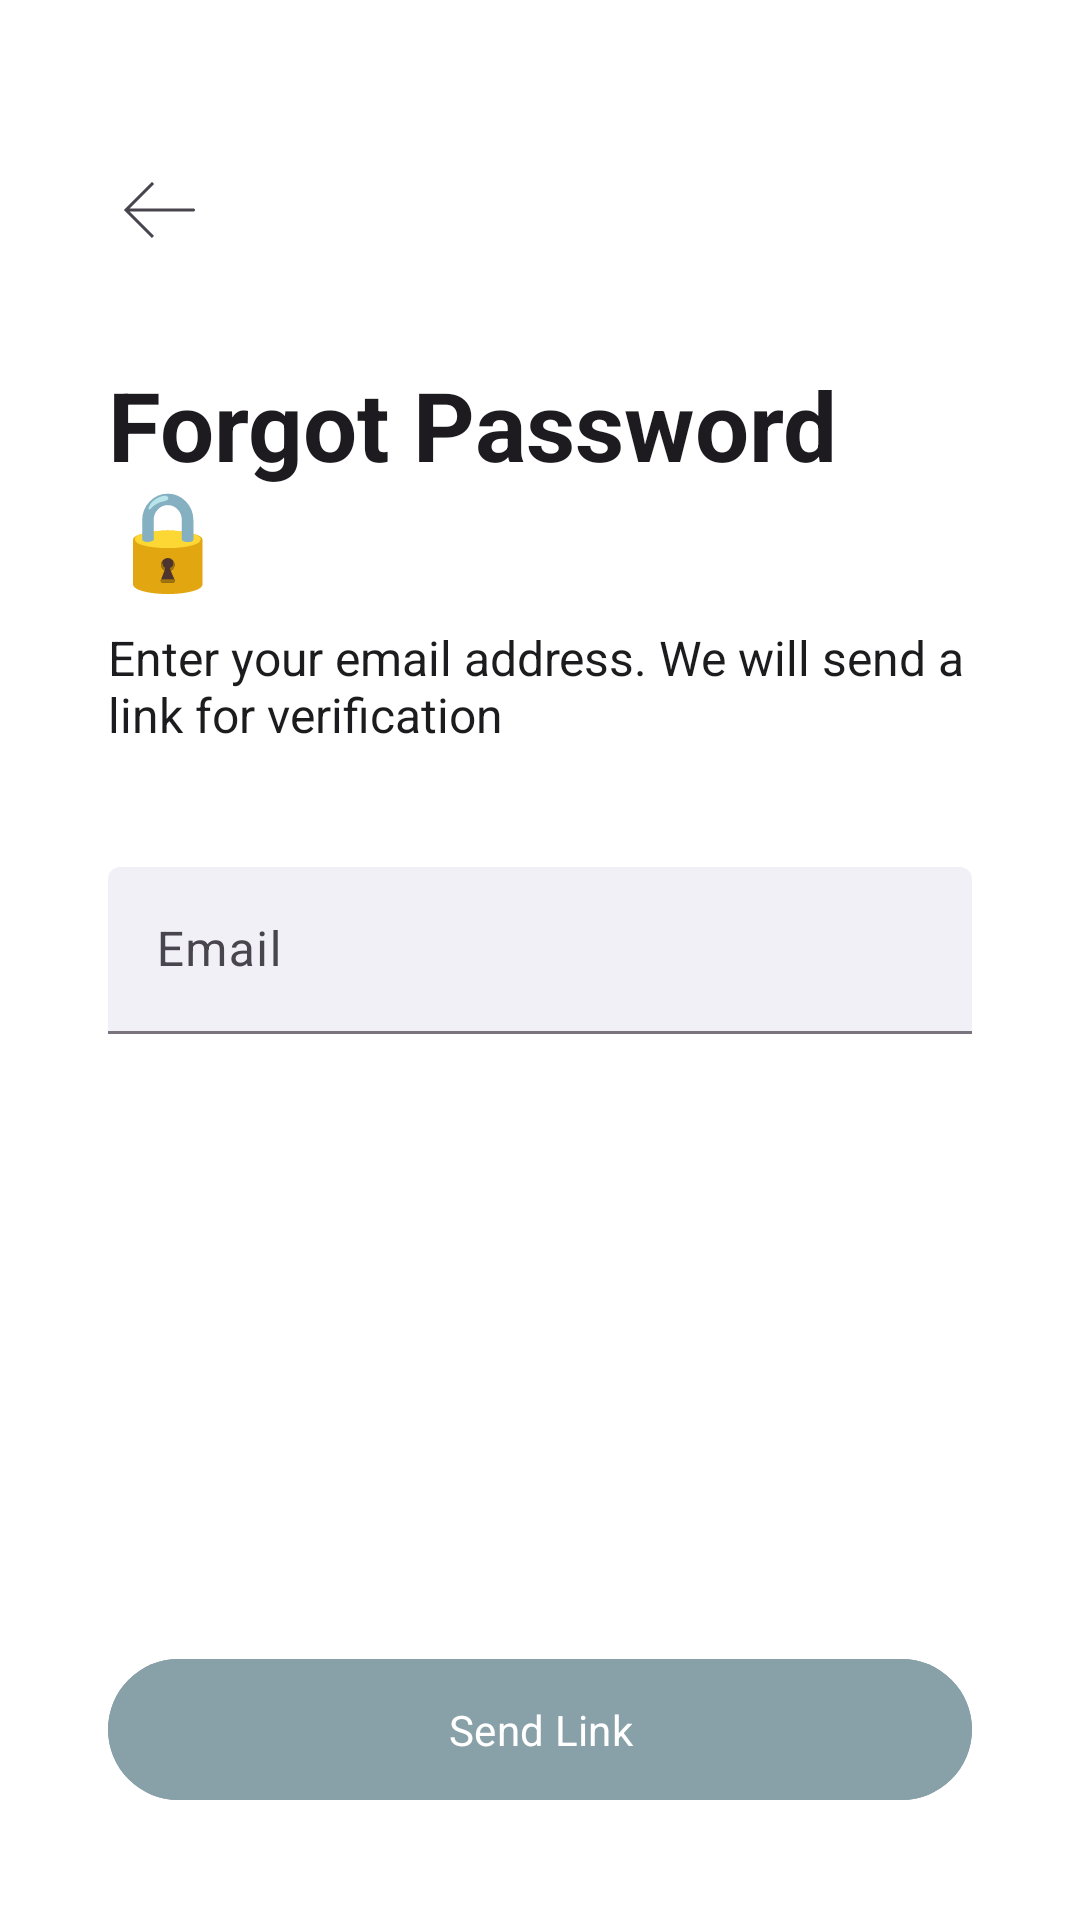

Screen size 1080 × 1920. Icon name, then its box in pixels as (x1, y1, x2, y2):
Back button: (124, 182, 195, 238)
